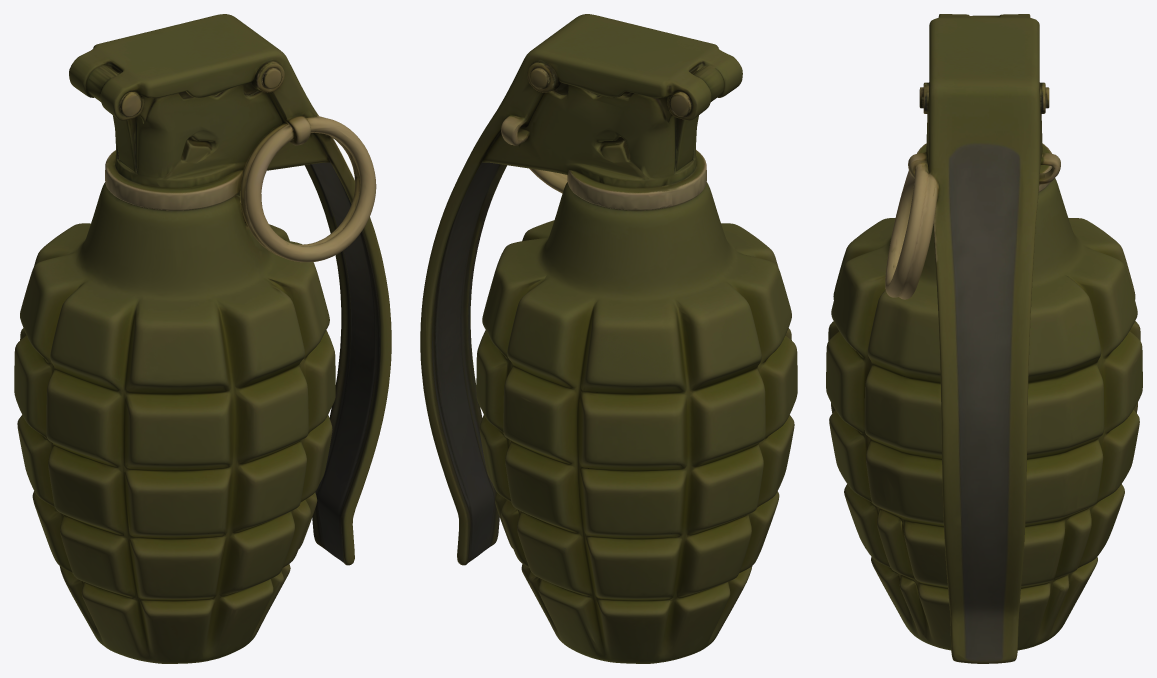
The model's file is nade_opt.glb.
3 views of the same model, side by side, from view 1: azimuth 30°, elevation 25°; view 2: azimuth 150°, elevation 25°; view 3: azimuth 270°, elevation 25° (orthographic).
Parts seen in each view (by area): view 1: material; view 2: material; view 3: material.
Boxes of the visible parts, x1,y1,x2,y2 form: material: (14,14,391,663); material: (420,14,797,663); material: (826,14,1142,663).
Bounding box in the file's own units: 0.6783 × 1.13 × 0.5612.
Materials: 1 (1 with a texture image).
